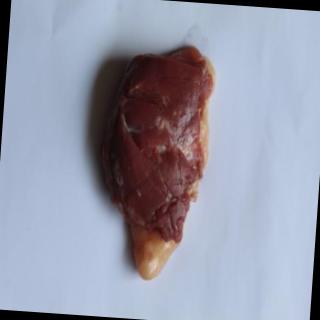Daging Sapi: (105, 43, 217, 284)
